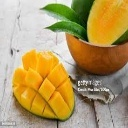mango: (12, 48, 76, 123)
